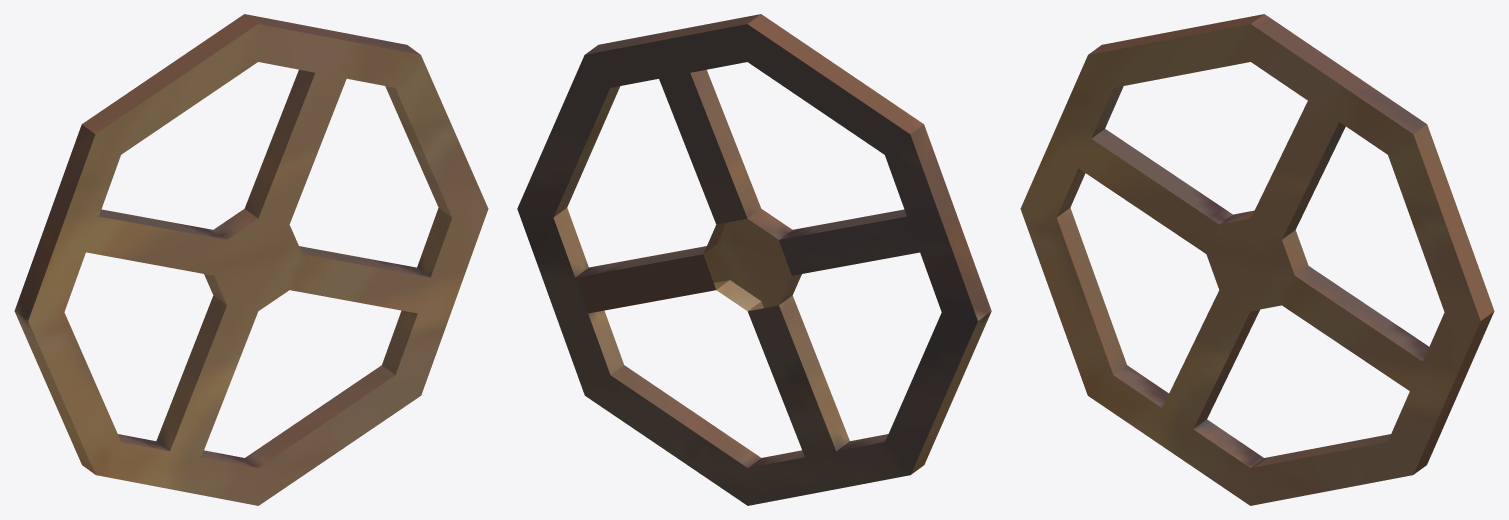
Rendered from Wheel.fbx.
3 renders of one model, left to right at view 1: azimuth 30°, elevation 25°; view 2: azimuth 150°, elevation 25°; view 3: azimuth 330°, elevation 25°, orthographic.
Visible parts, largest first — view 1: Cylinder.002; view 2: Cylinder.002; view 3: Cylinder.002.
Part boxes in pixels (x1=…): Cylinder.002: x1=14, y1=14, x2=488, y2=505; Cylinder.002: x1=517, y1=14, x2=991, y2=505; Cylinder.002: x1=1020, y1=14, x2=1494, y2=505.
Bounding box in the file's own units: 0.2347 × 0.2347 × 0.0125.
Materials: 1 (1 with a texture image).
